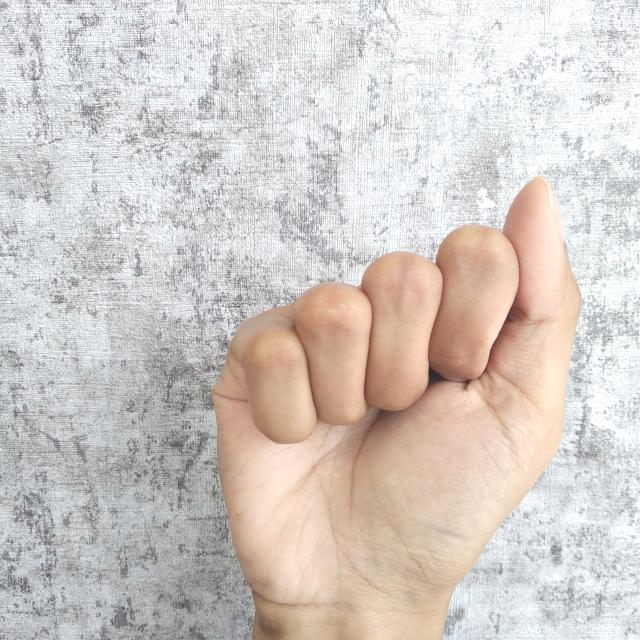A: (204, 166, 591, 640)
